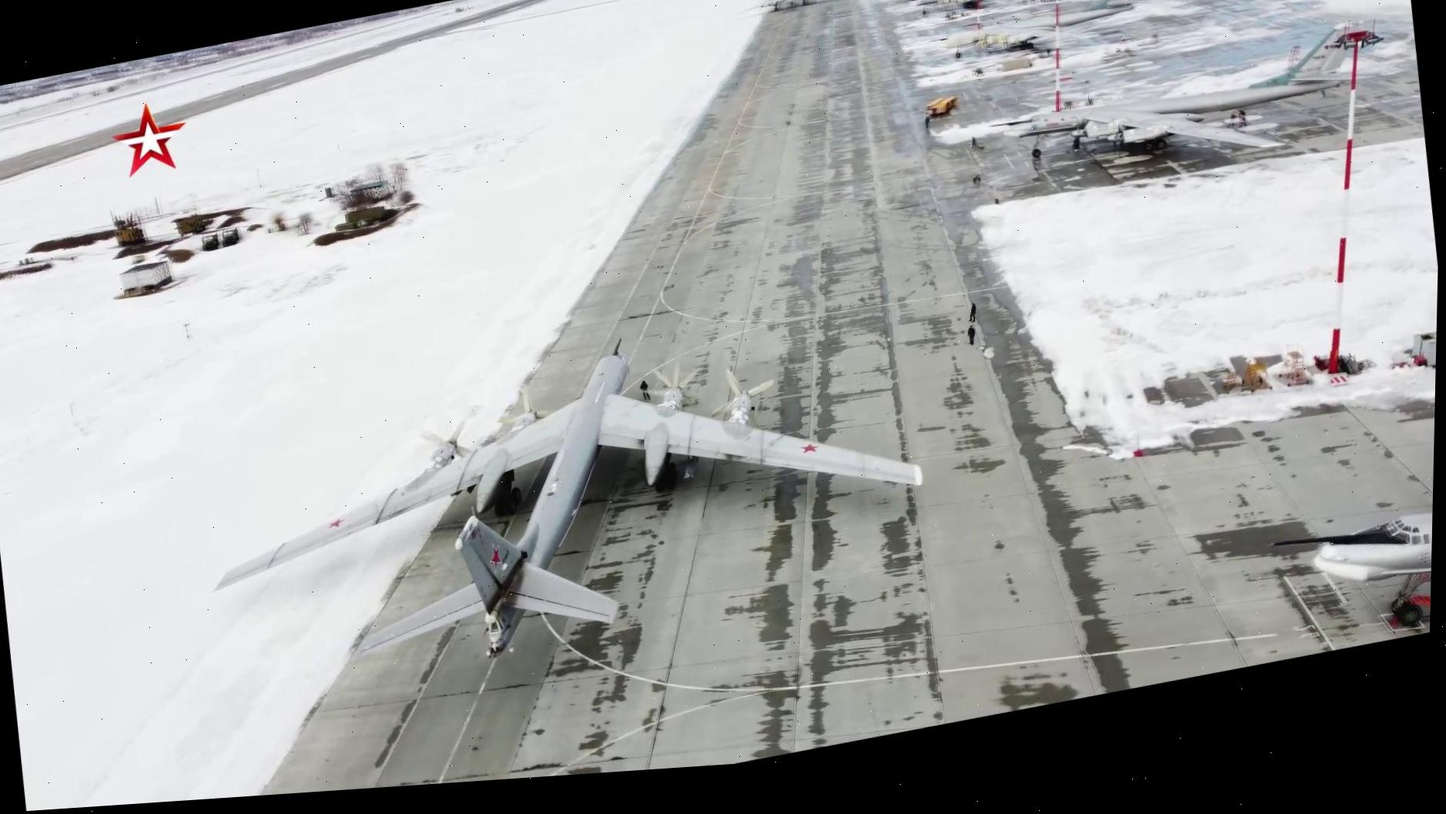person: (963, 321, 978, 349), (964, 300, 980, 322), (969, 135, 978, 151)
plane: (187, 281, 939, 713), (981, 19, 1367, 201), (1264, 437, 1434, 660), (924, 0, 1148, 64), (913, 0, 1062, 15), (753, 0, 829, 15), (895, 0, 1031, 3)
